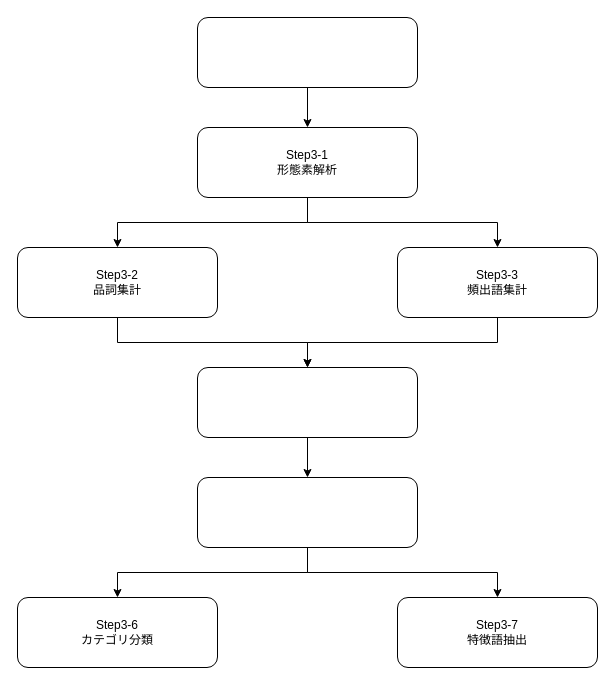
This 615x685 diagram has some shape labels left out. The box of each missing label's shape, as (x1, y1, x2, y2) in pixels:
Step3-4 共起語解析: (196, 366, 418, 438)
Step3-5 ストップワード除去: (196, 476, 418, 548)
元CSV 災害発生時の状況: (196, 16, 418, 88)
